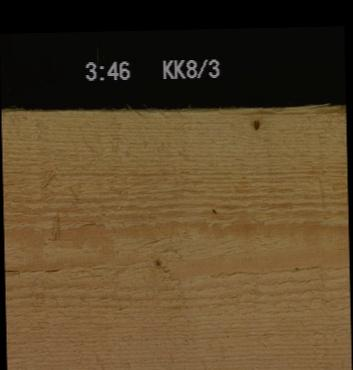dry_knot: (248, 117, 263, 131)
small_knot: (148, 256, 163, 268)
split: (4, 265, 60, 273)
wave: (129, 102, 345, 113)
